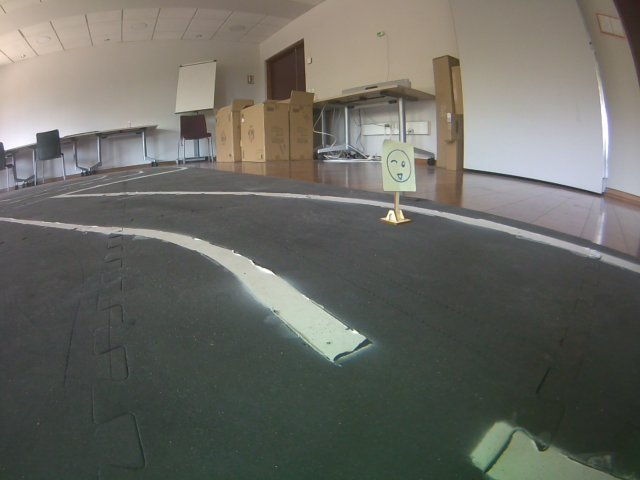Smiley: (379, 137, 418, 193)
